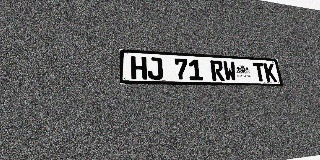plate: (119, 49, 283, 86)
